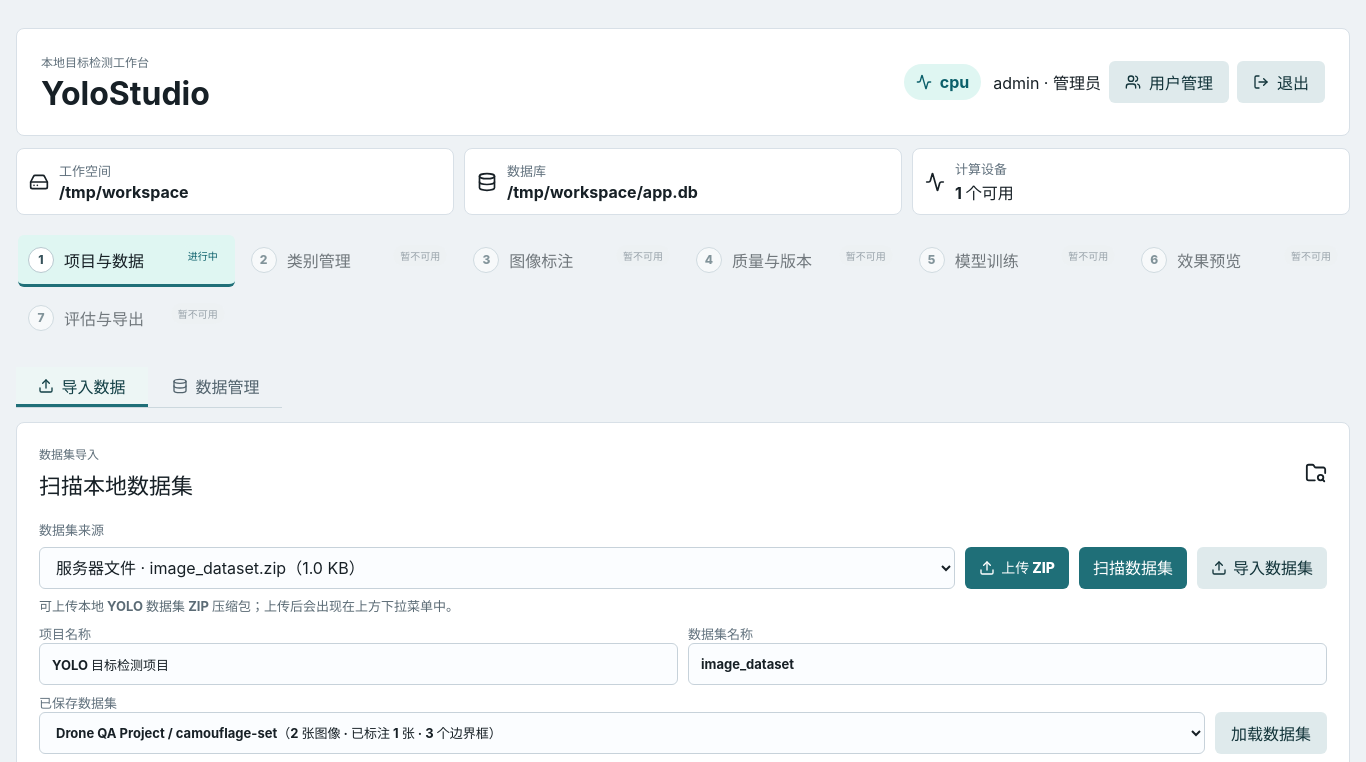
Scenario: App › shows annotation readiness before a dataset is loaded
Expected: the heading "YoloStudio" is shown, [41,76,210,111]
Click the button "3 图像标注 暂不可用": x=572, y=261 [463,235,680,287]
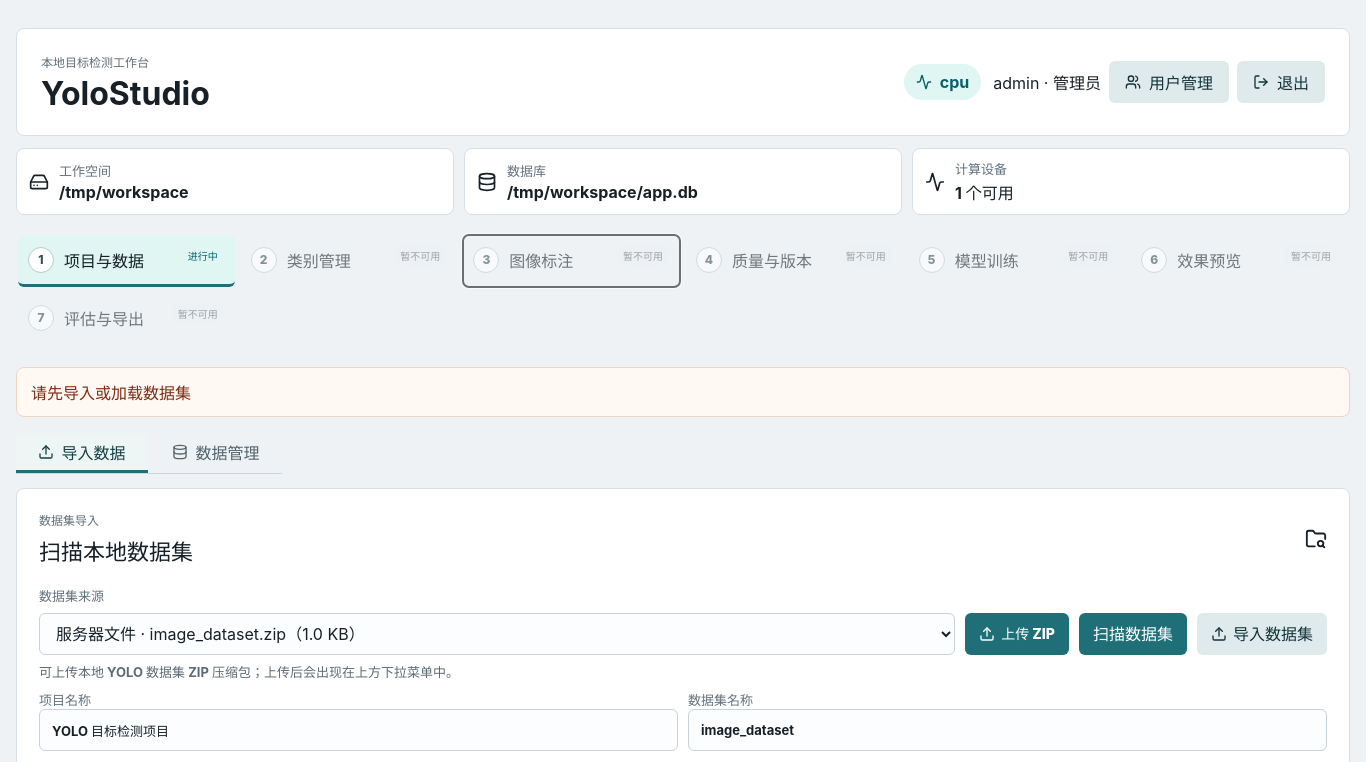
Expected: the dropdown labelled "数据集来源" is shown, [39,613,955,655]
Expected: the text "请先导入或加载数据集" is shown, [16,367,1350,417]
